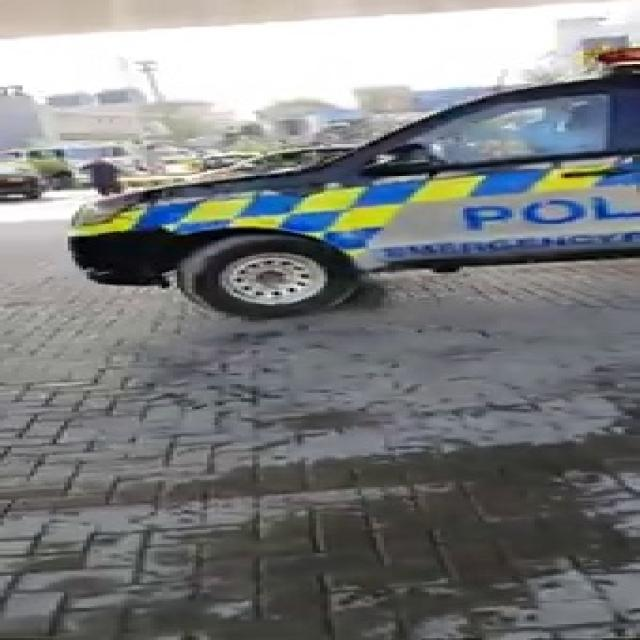police: (14, 64, 640, 308)
